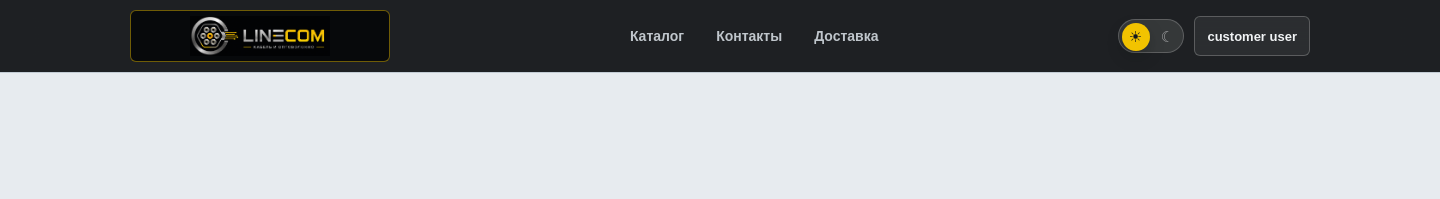
it: SiteHeader › logs out from the header and returns to anonymous actions
The image size is (1440, 199).
Click the button "customer user" at (1252, 36), box x1=1194 y1=16 x2=1310 y2=56
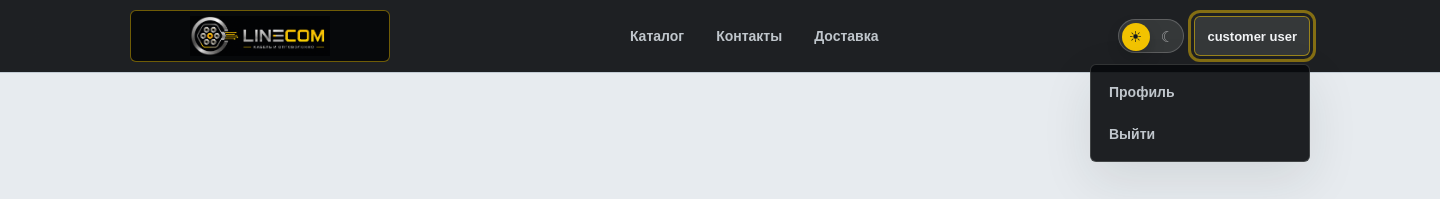
Click the button "Выйти" at (1200, 134), box x1=1099 y1=115 x2=1301 y2=153
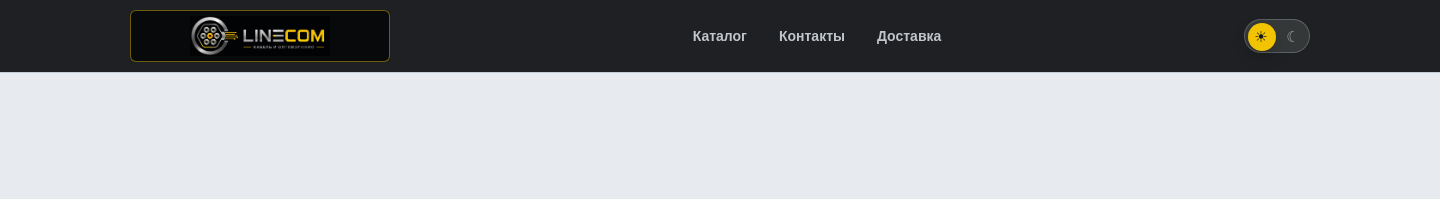
Now the button "customer user" is gone
